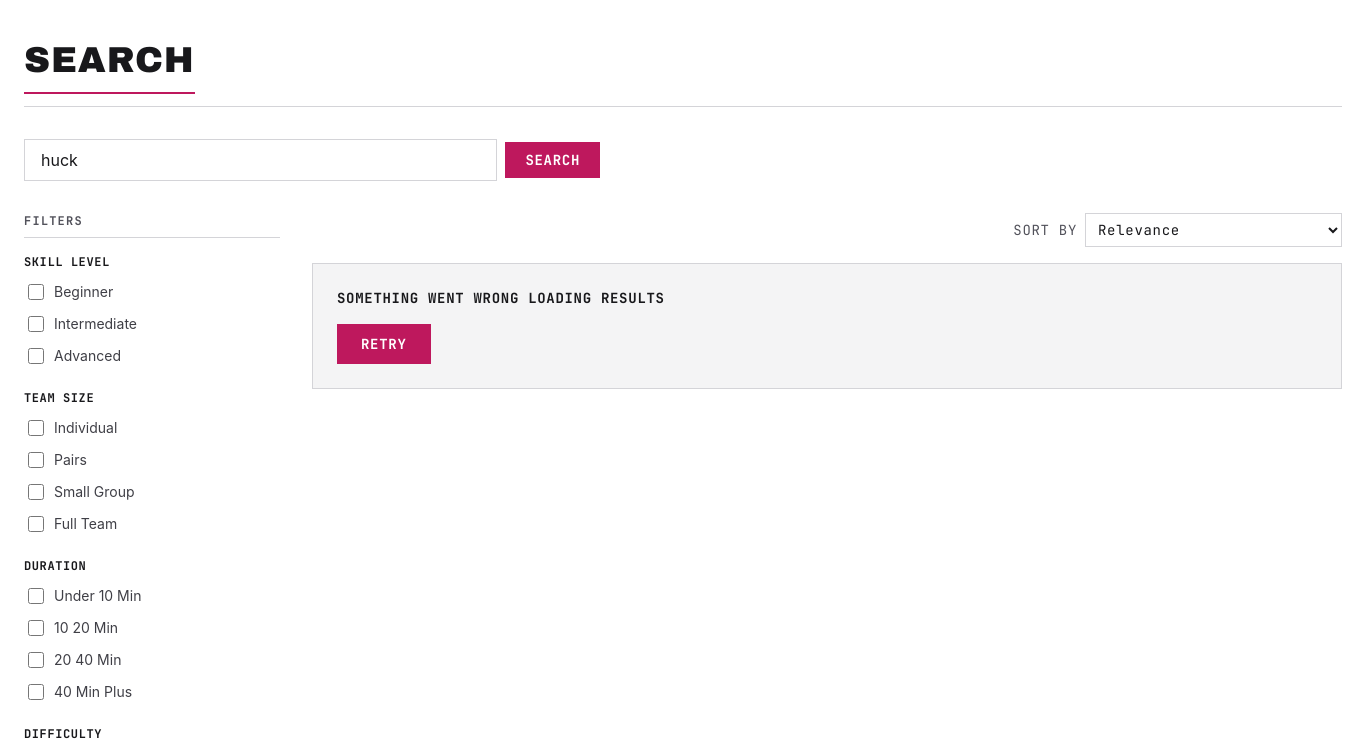
Test: Search page — error state › shows an inline error with a working retry action
Expected: the message shows "Something went wrong loading results", 337,289 -> 665,307
Click the button "Retry": [384, 344] box 337,324 -> 430,364
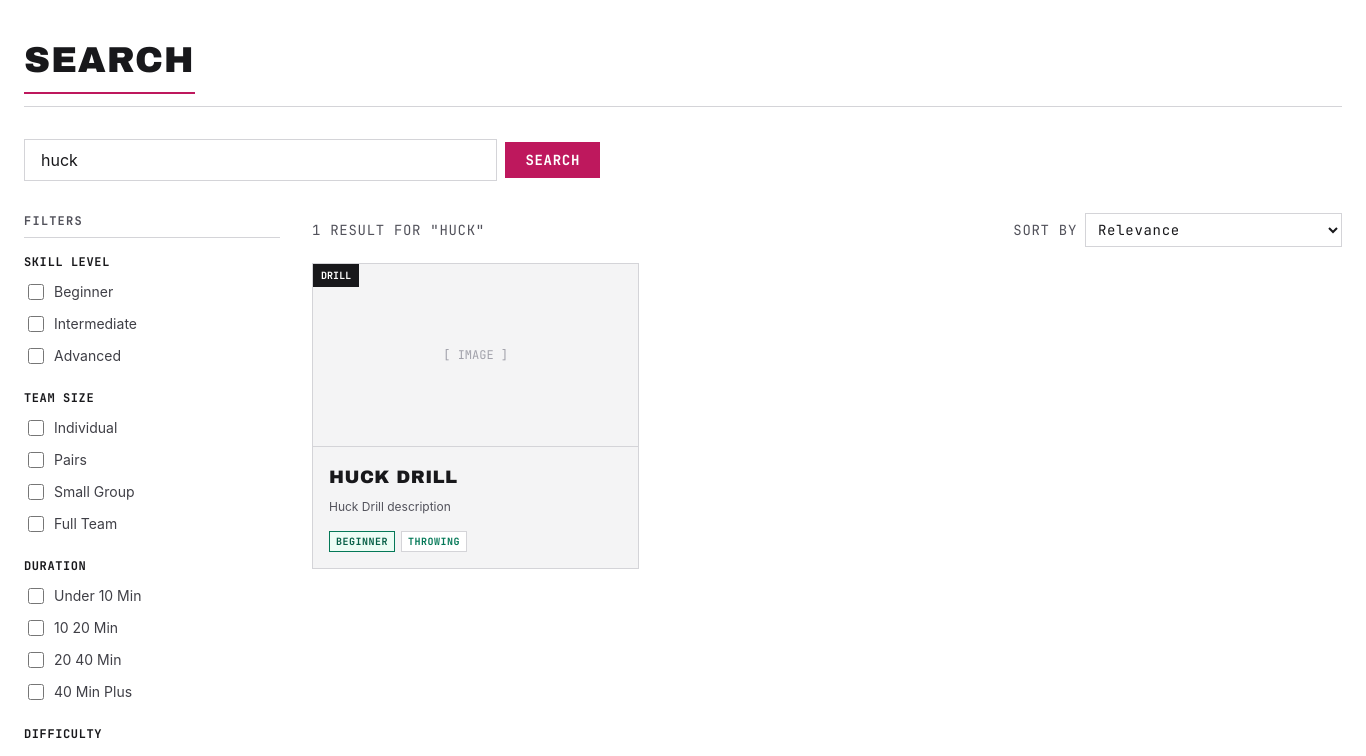
Expected: the link "Huck Drill" is shown, 329,467 -> 458,487
